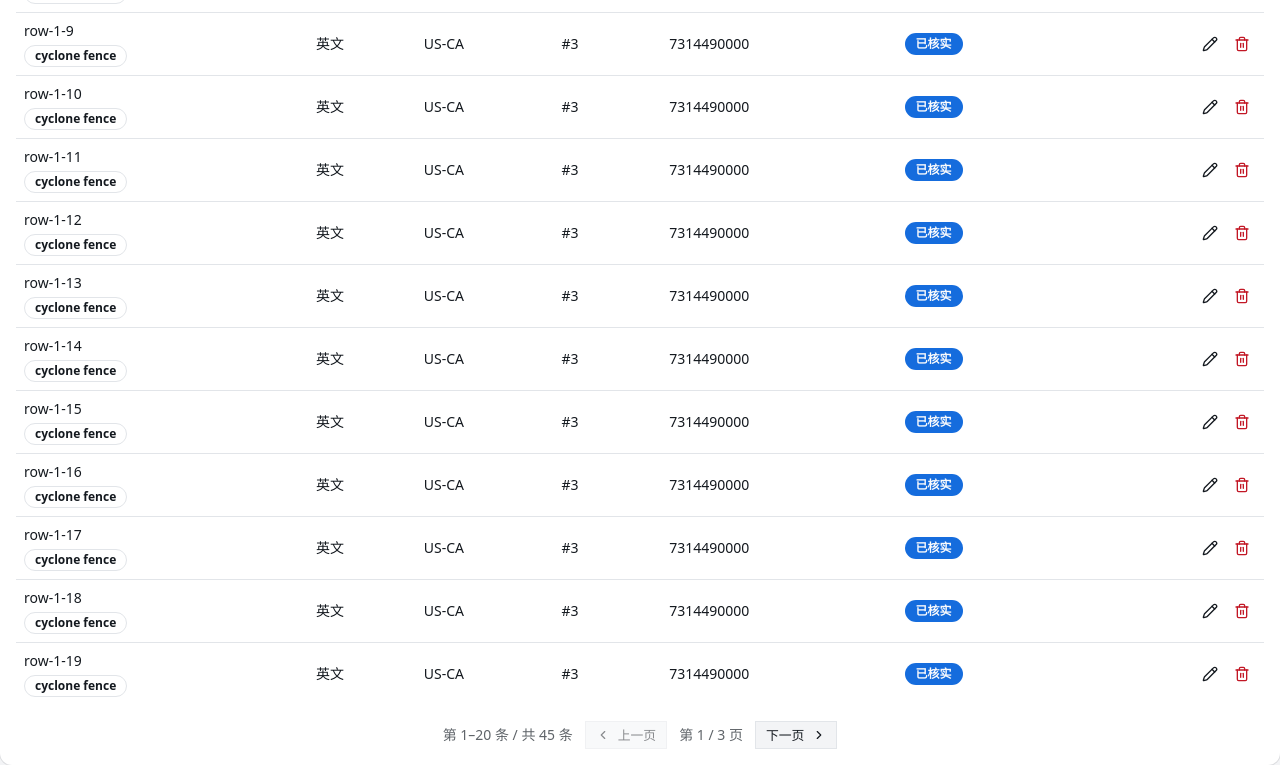
Test: NameMappingPanel · 分页列表 › 分页：total 用后端值，下一页请求 page=2
This screenshot has width=1280, height=765.
(page scrolled)
Click the button "下一页" at (796, 734), box [755,720,837,748]
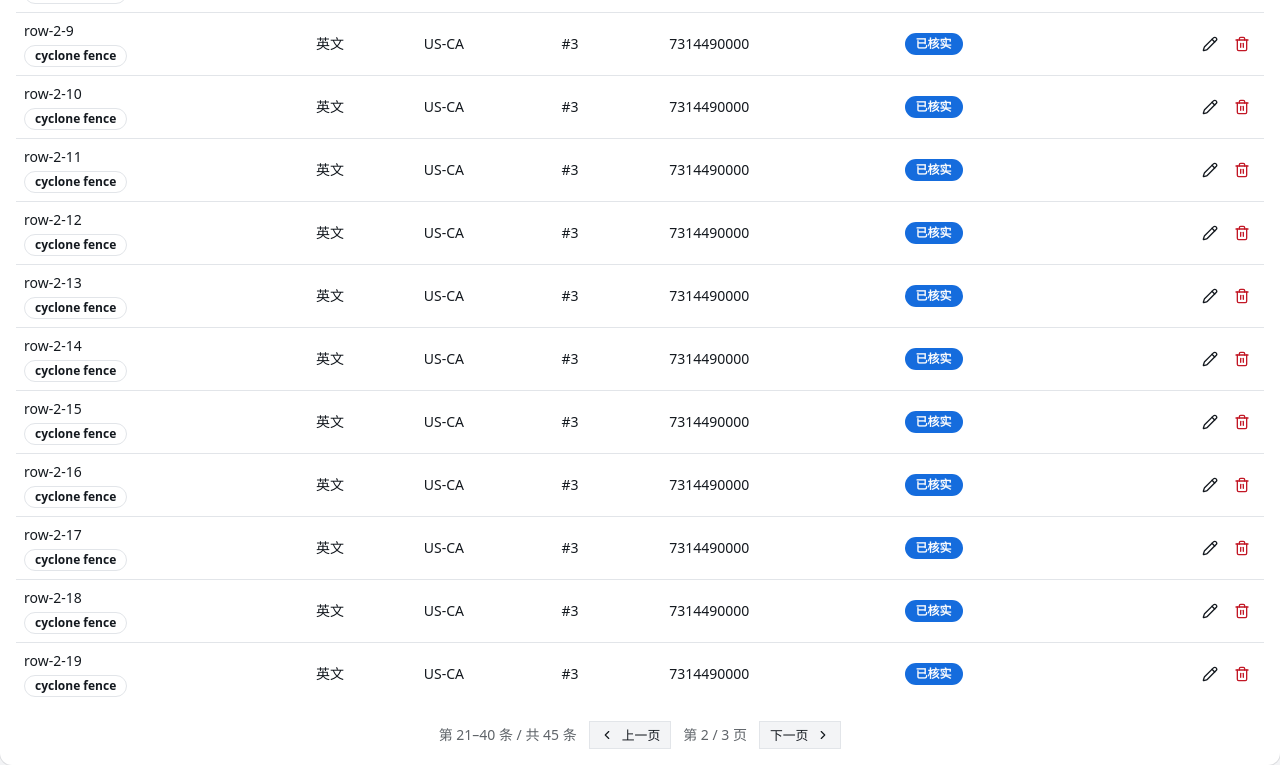
Expected: the text "第 21–40 条 / 共 45 条" is shown, [439,724,577,744]
Expected: the text "第 2 / 3 页" is shown, [683,724,747,744]
